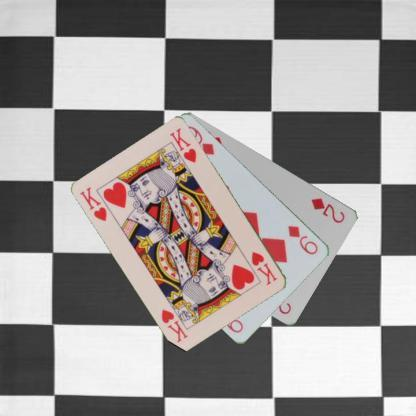2d: (309, 195, 346, 224)
9d: (286, 222, 320, 256)
Kh: (78, 184, 108, 224), (249, 249, 278, 287)
